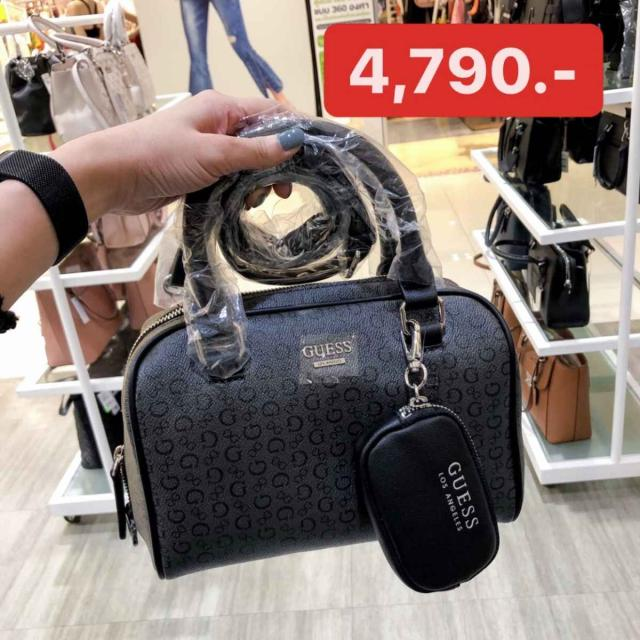handbag: (96, 256, 532, 604)
